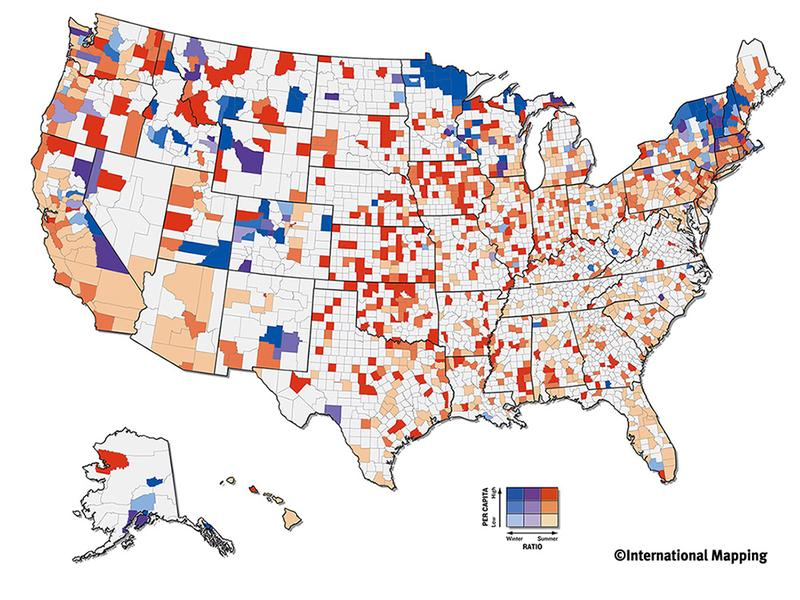legend: (478, 481, 566, 554)
